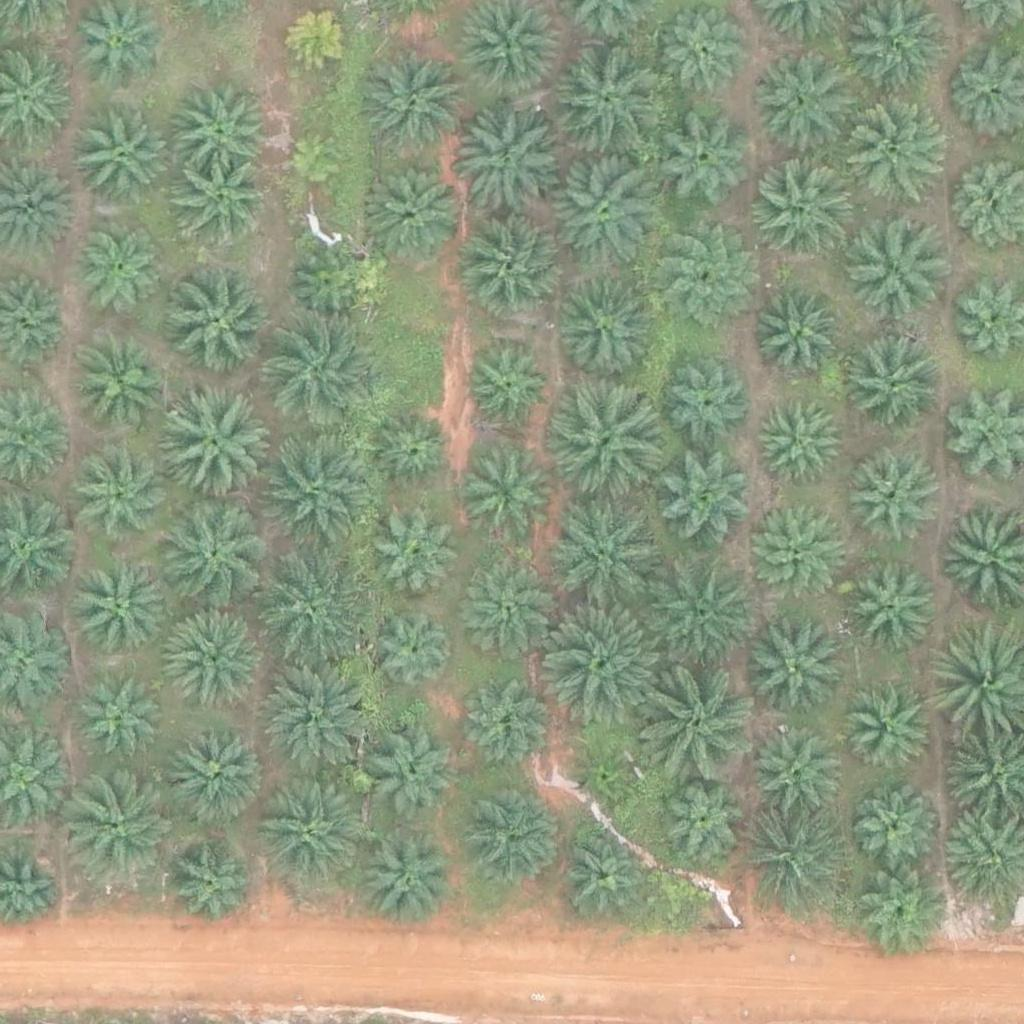Kelapa_Sawit: (641, 663, 754, 777), (550, 158, 663, 272), (357, 42, 470, 156), (264, 435, 377, 549), (161, 263, 274, 377), (832, 95, 945, 208), (740, 802, 853, 915), (553, 40, 666, 153), (550, 377, 663, 490), (455, 108, 568, 221), (154, 391, 267, 504), (252, 776, 364, 890), (644, 556, 756, 669), (549, 498, 661, 611), (546, 609, 658, 722), (267, 314, 379, 427), (255, 554, 367, 667), (263, 666, 375, 779), (157, 498, 269, 611), (67, 772, 179, 885), (752, 510, 852, 611), (748, 720, 848, 821), (655, 771, 755, 872), (650, 451, 750, 552), (556, 278, 656, 379), (469, 218, 569, 319), (463, 789, 563, 890), (370, 159, 470, 260), (357, 833, 457, 934), (170, 79, 270, 180), (168, 724, 268, 825), (71, 108, 171, 209), (71, 332, 171, 433), (73, 449, 173, 550), (69, 560, 169, 661), (844, 224, 944, 324), (846, 340, 946, 440), (850, 866, 950, 966), (758, 160, 858, 260), (748, 629, 848, 729), (167, 607, 267, 707), (753, 58, 852, 159), (74, 230, 162, 319), (848, 563, 936, 651), (841, 687, 929, 775), (845, 779, 933, 867), (753, 286, 841, 374), (754, 399, 842, 487), (659, 243, 747, 331), (658, 113, 746, 201), (464, 564, 552, 652), (373, 515, 461, 603), (369, 609, 457, 697), (287, 244, 375, 332), (179, 159, 267, 247), (169, 847, 257, 935), (561, 830, 648, 919), (465, 345, 552, 434), (81, 675, 168, 764), (850, 451, 937, 539), (666, 358, 753, 446), (469, 460, 556, 548), (462, 680, 549, 768), (368, 412, 455, 500), (369, 726, 456, 814), (281, 1, 356, 77), (577, 748, 640, 811), (286, 130, 348, 193)
